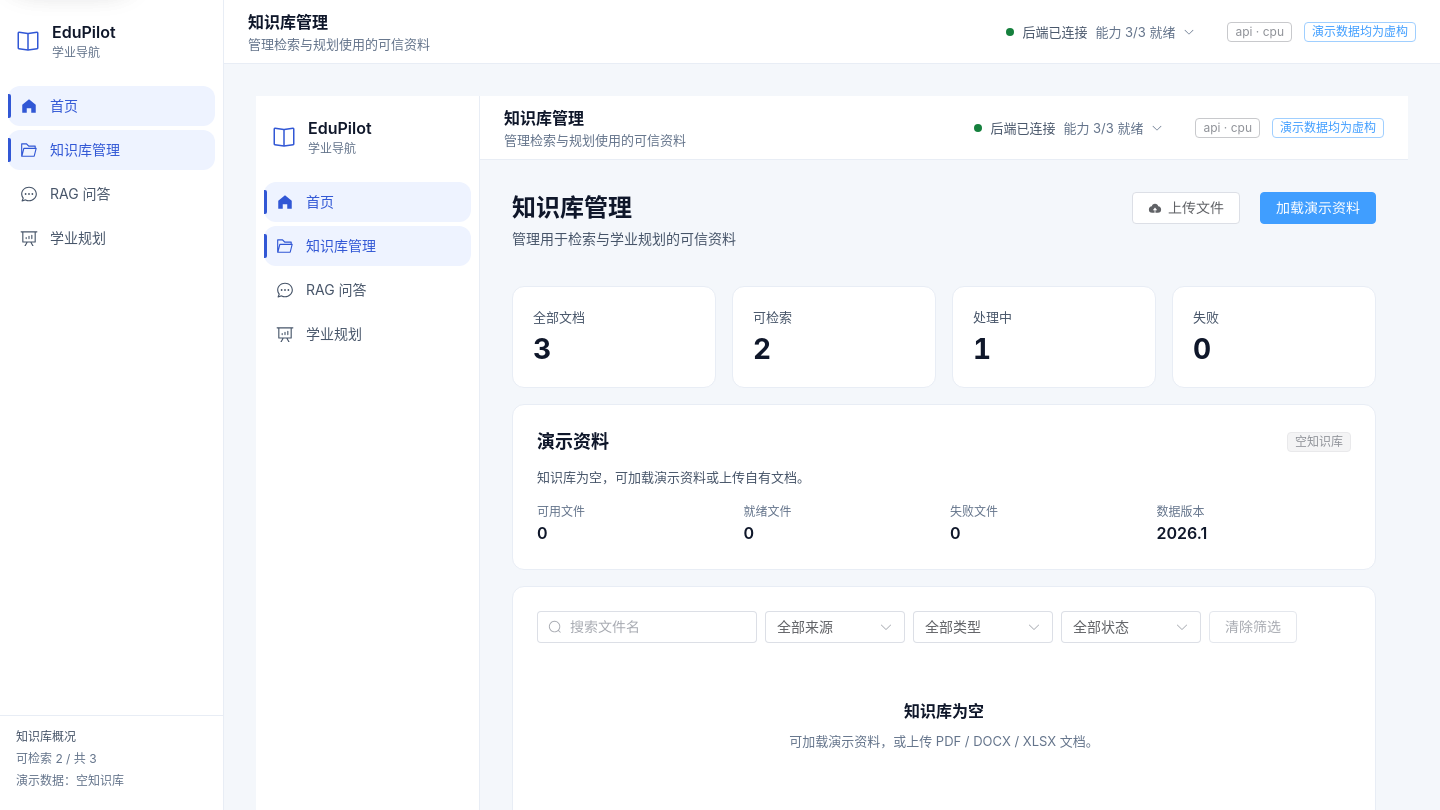
AppLayout › reports every layer ready when all capabilities are ready
The width and height of the screenshot is (1440, 810).
expect the 1st text with class "ep-status__hint" reads "能力 3/3 就绪": met, box [1095,24,1176,40]
Click the 1st button with class "ep-status".
click(1101, 32)  # box [998,20,1204,44]
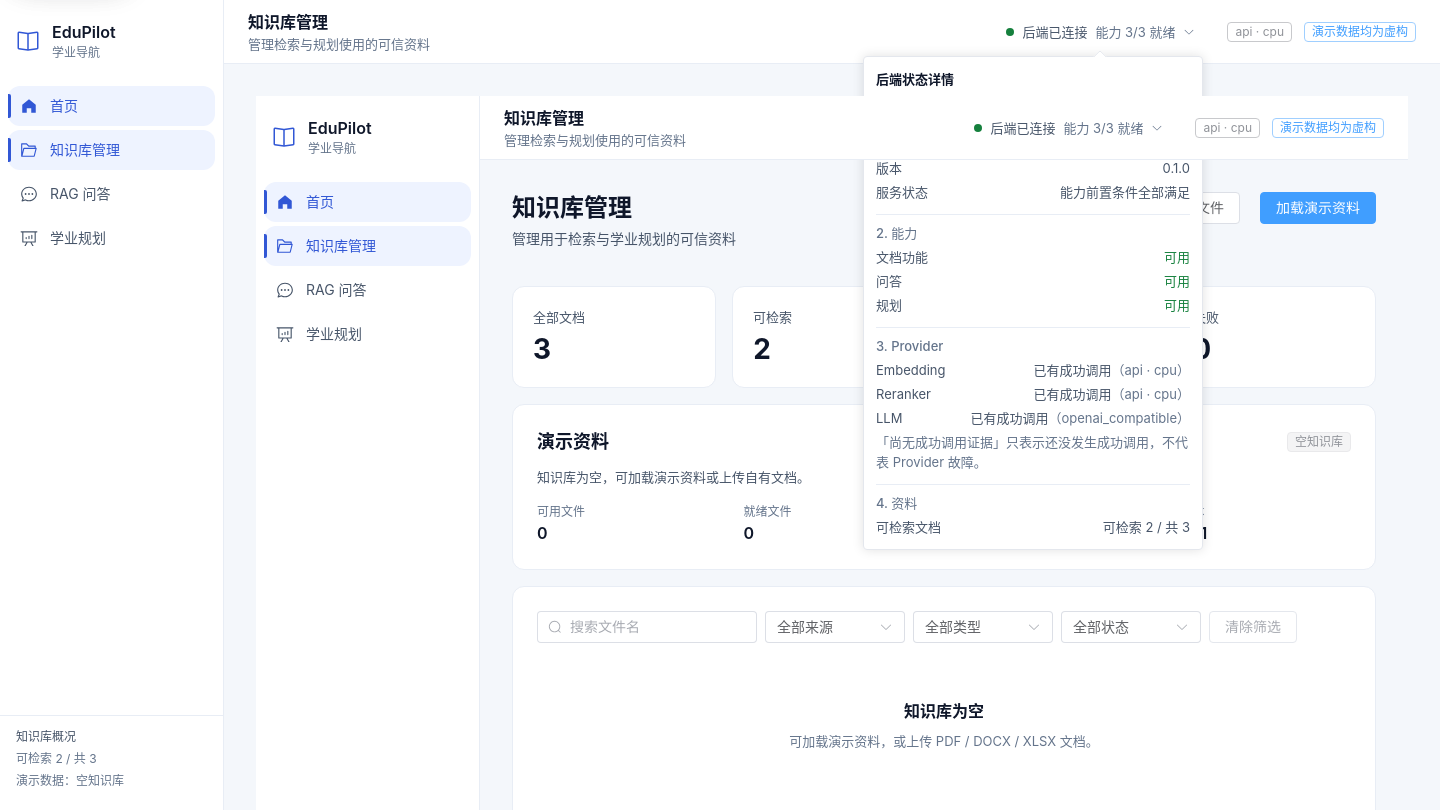
expect the element with class "ep-health__layer" shows "能力前置条件全部满足": met, box [1060,184,1190,200]
expect the element with class "ep-health__layer" shows "已有成功调用": met, box [1033,362,1111,378]
expect the elements with class "ep-health__value" read "已有成功调用（api · cpu）", "已有成功调用（api · cpu）", "已有成功调用（openai_compatible）", in this order: met, box [1033,360,1190,380]; [1033,384,1190,404]; [970,408,1190,428]
